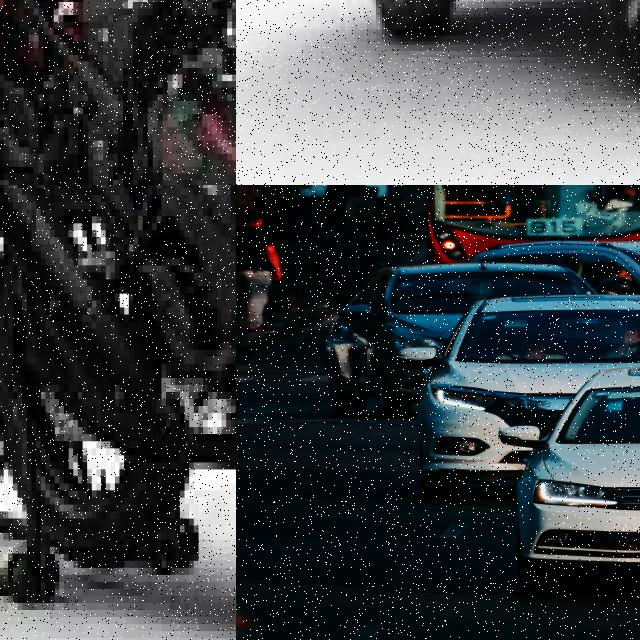bike: (0, 185, 236, 640), (0, 0, 236, 185)
car: (413, 287, 640, 501), (318, 261, 592, 419), (265, 0, 640, 94), (510, 369, 640, 598), (236, 475, 342, 640), (603, 237, 640, 373)
